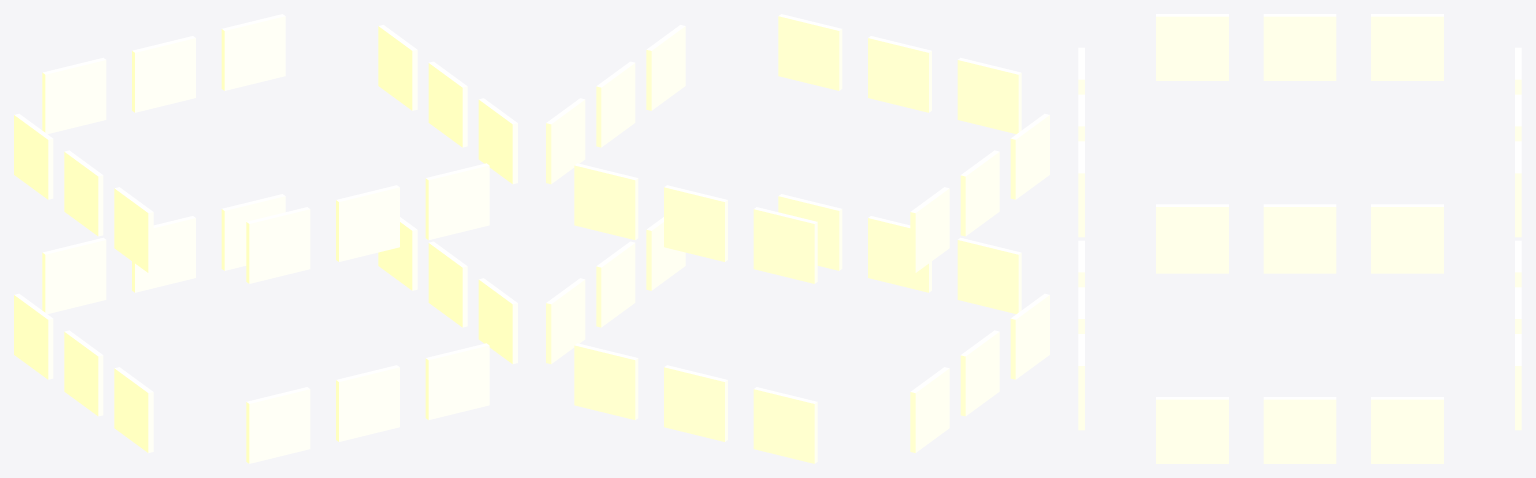
File: building-b.glb
3 renders of one model, left to right at view 1: azimuth 30°, elevation 25°; view 2: azimuth 150°, elevation 25°; view 3: azimuth 270°, elevation 25°, orthographic. The views are drawn at different scales.
Parts seen in each view (by area): view 1: WindowLight_back_1_2, WindowLight_front_0_0, WindowLight_front_0_2, WindowLight_front_1_0, WindowLight_front_1_2, WindowLight_back_1_0, WindowLight_back_0_0, WindowLight_back_1_1, WindowLight_front_0_1, WindowLight_front_1_1, WindowLight_back_0_1, WindowLight_left_0_2 (+12 smaller); view 2: WindowLight_back_0_0, WindowLight_front_1_2, WindowLight_back_0_2, WindowLight_back_1_0, WindowLight_back_1_2, WindowLight_front_1_0, WindowLight_front_0_0, WindowLight_back_0_1, WindowLight_back_1_1, WindowLight_front_1_1, WindowLight_front_0_1, WindowLight_left_0_0 (+12 smaller); view 3: WindowLight_right_1_1, WindowLight_right_1_0, WindowLight_right_1_2, WindowLight_left_1_1, WindowLight_right_0_1, WindowLight_left_1_0, WindowLight_left_1_2, WindowLight_right_0_0, WindowLight_right_0_2, WindowLight_back_0_2, WindowLight_back_1_2, WindowLight_front_0_2 (+1 smaller).
Part boxes in pixels (<box>): WindowLight_back_1_2: <box>221,14,285,90</box>; WindowLight_front_0_0: <box>246,387,310,463</box>; WindowLight_front_0_2: <box>425,343,489,420</box>; WindowLight_front_1_0: <box>246,207,310,283</box>; WindowLight_front_1_2: <box>425,163,489,240</box>; WindowLight_back_1_0: <box>42,57,106,134</box>; WindowLight_back_0_0: <box>42,237,106,313</box>; WindowLight_back_1_1: <box>132,36,195,112</box>; WindowLight_front_0_1: <box>336,365,399,441</box>; WindowLight_front_1_1: <box>336,185,399,261</box>; WindowLight_back_0_1: <box>132,216,195,292</box>; WindowLight_left_0_2: <box>14,293,53,379</box>; WindowLight_back_0_0: <box>753,387,817,463</box>; WindowLight_front_1_2: <box>778,14,842,90</box>; WindowLight_back_0_2: <box>574,343,638,420</box>; WindowLight_back_1_0: <box>753,207,817,283</box>; WindowLight_back_1_2: <box>574,163,638,240</box>; WindowLight_front_1_0: <box>957,57,1021,134</box>; WindowLight_front_0_0: <box>957,237,1021,313</box>; WindowLight_back_0_1: <box>664,365,727,441</box>; WindowLight_back_1_1: <box>664,185,727,261</box>; WindowLight_front_1_1: <box>868,36,931,112</box>; WindowLight_front_0_1: <box>868,216,931,292</box>; WindowLight_left_0_0: <box>1010,293,1049,379</box>; WindowLight_right_1_1: <box>1263,204,1336,271</box>; WindowLight_right_1_0: <box>1156,204,1228,271</box>; WindowLight_right_1_2: <box>1371,204,1443,271</box>; WindowLight_left_1_1: <box>1263,14,1336,80</box>; WindowLight_right_0_1: <box>1263,397,1336,463</box>; WindowLight_left_1_0: <box>1156,14,1228,80</box>; WindowLight_left_1_2: <box>1371,14,1443,80</box>; WindowLight_right_0_0: <box>1156,397,1228,463</box>; WindowLight_right_0_2: <box>1371,397,1443,463</box>; WindowLight_back_0_2: <box>1515,334,1521,430</box>; WindowLight_back_1_2: <box>1515,141,1521,237</box>; WindowLight_front_0_2: <box>1078,334,1084,430</box>.
Size of the model in its own units: 1 by 0.6206 by 0.97.
